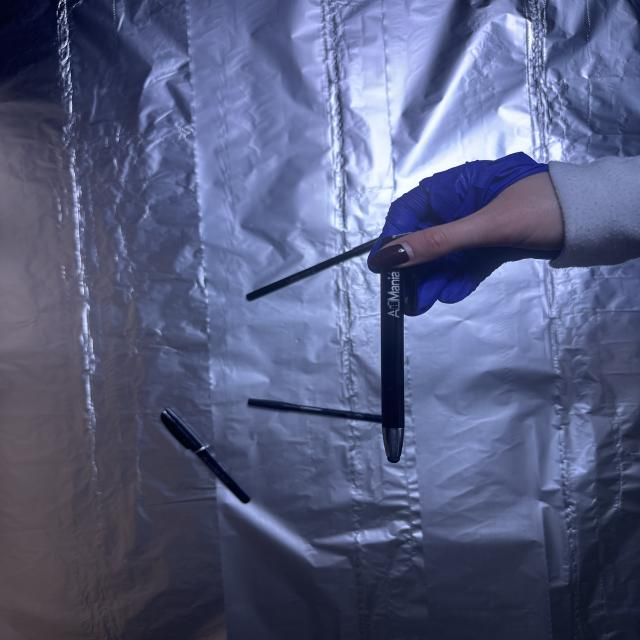glove_partial: (362, 149, 576, 318)
